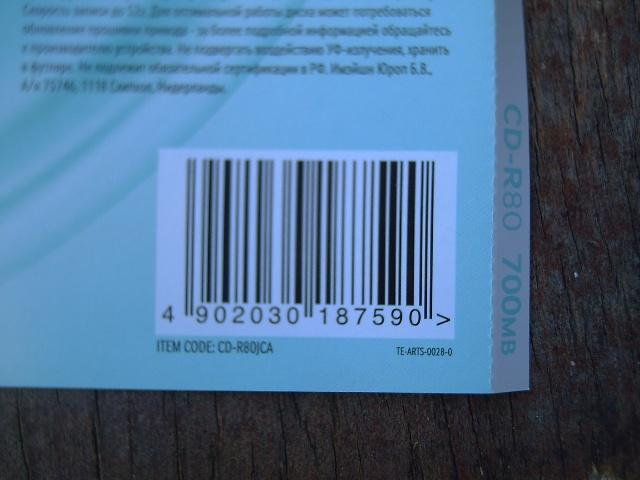Barcode: (155, 148, 458, 340)
